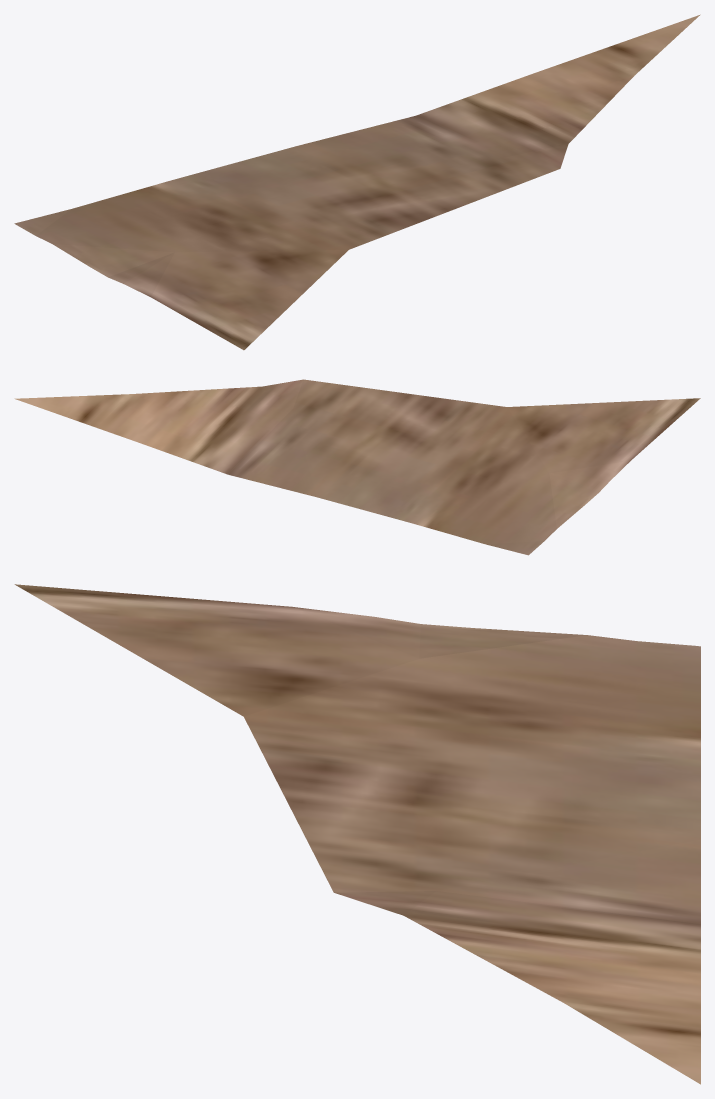
3 views of the same model, one above another, from view 1: azimuth 30°, elevation 25°; view 2: azimuth 150°, elevation 25°; view 3: azimuth 270°, elevation 25° (orthographic). The views are drawn at different scales.
Size of the model in its own units: 0.5094 by 0.0295 by 0.2955.
1 material, 1 textured.
